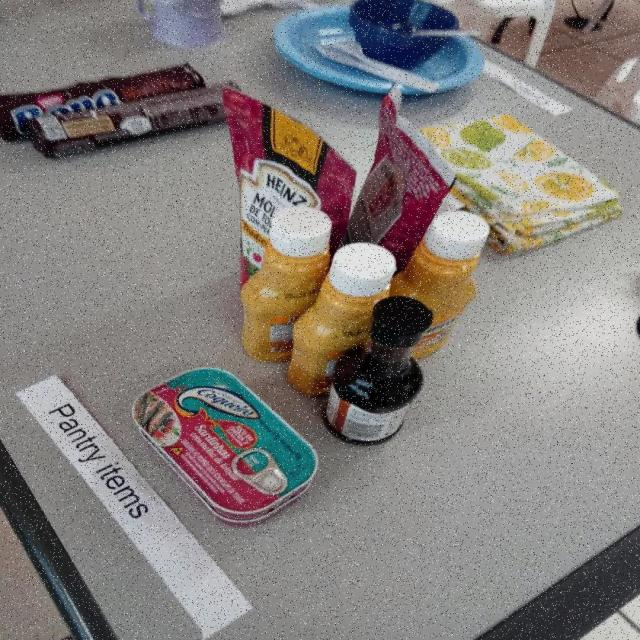Cloth: (402, 111, 630, 261)
Cookies: (35, 82, 247, 162), (0, 63, 206, 140)
EnglishSauce: (326, 297, 431, 439)
Mustard: (288, 239, 398, 397), (240, 206, 332, 363), (392, 211, 489, 358)
TomatoSauce: (218, 83, 348, 295), (346, 79, 460, 252)
TunaCan: (133, 362, 322, 526)
